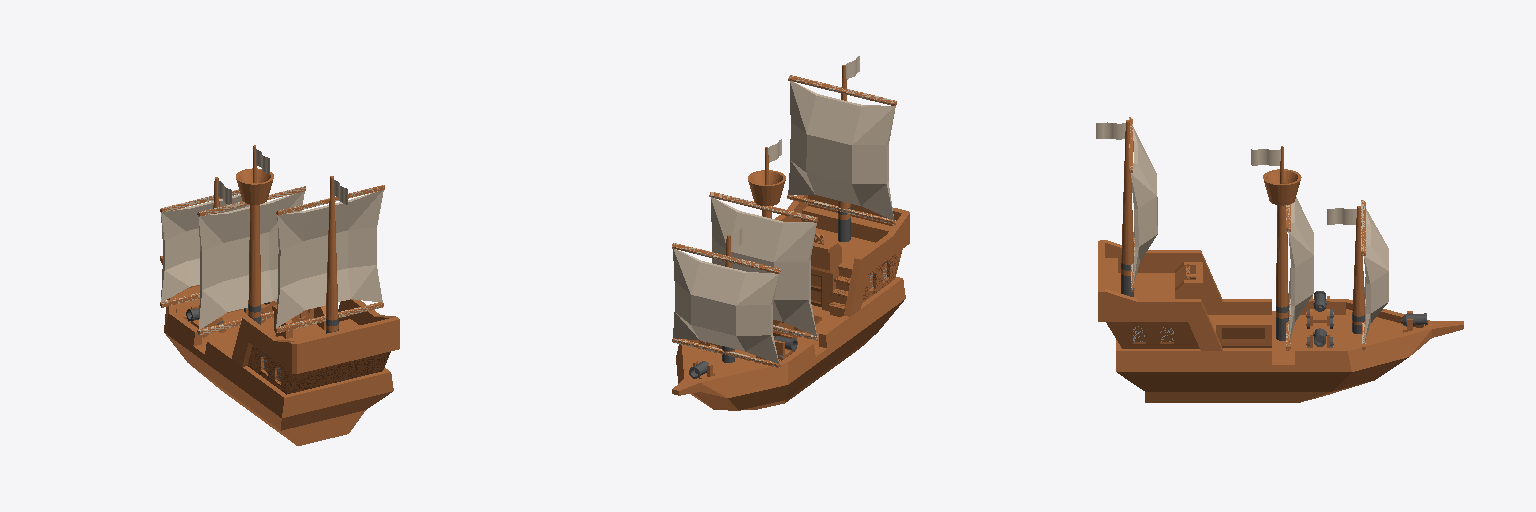
File: ship_light.obj
3 views of the same model, side by side, from view 1: azimuth 30°, elevation 25°; view 2: azimuth 150°, elevation 25°; view 3: azimuth 270°, elevation 25° (orthographic).
Visible parts, largest first — view 1: ship_light; view 2: ship_light; view 3: ship_light.
Boxes of the visible parts, x1,y1,x2,y2 form: ship_light: [160, 145, 399, 445]; ship_light: [672, 56, 909, 410]; ship_light: [1096, 117, 1463, 402].
Bounding box in the file's own units: 0.5053 × 1.16 × 1.44.